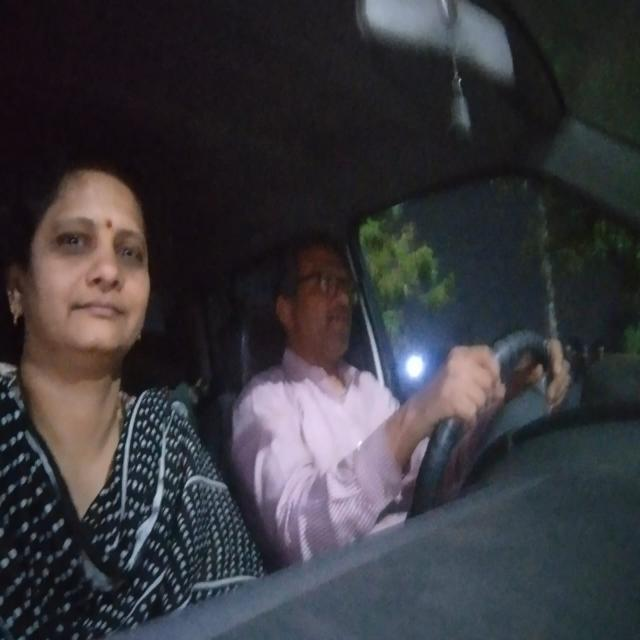person: (6, 154, 158, 399), (275, 228, 370, 374)
